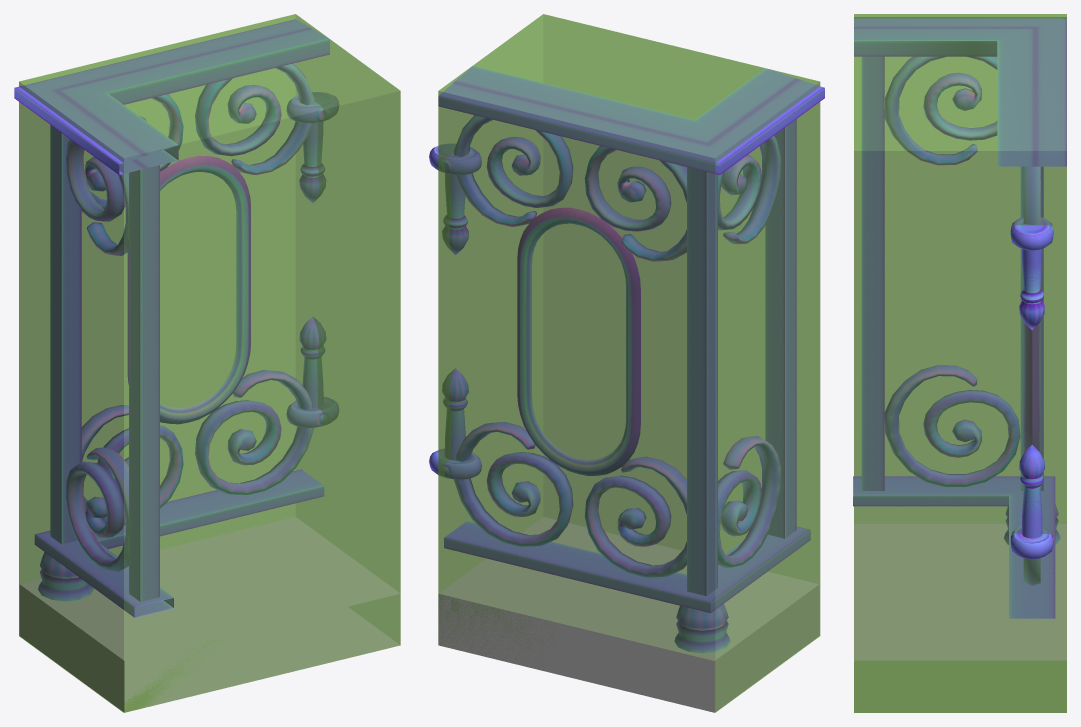
The model's file is F_md_Balcony_S_end_04_m.fbx.
3 renders of one model, left to right at view 1: azimuth 30°, elevation 25°; view 2: azimuth 150°, elevation 25°; view 3: azimuth 270°, elevation 25°, orthographic.
Parts seen in each view (by area): view 1: F_md_Balcony_S_end_04_m_col_01, F_md_Balcony_S_end_04_m_LOD0; view 2: F_md_Balcony_S_end_04_m_col_01, F_md_Balcony_S_end_04_m_LOD0; view 3: F_md_Balcony_S_end_04_m_col_01, F_md_Balcony_S_end_04_m_LOD0.
Part boxes in pixels (x1=…): F_md_Balcony_S_end_04_m_col_01: x1=19, y1=14, x2=400, y2=712; F_md_Balcony_S_end_04_m_LOD0: x1=14, y1=19, x2=400, y2=712; F_md_Balcony_S_end_04_m_col_01: x1=438, y1=14, x2=820, y2=712; F_md_Balcony_S_end_04_m_LOD0: x1=429, y1=66, x2=824, y2=712; F_md_Balcony_S_end_04_m_col_01: x1=854, y1=14, x2=1066, y2=712; F_md_Balcony_S_end_04_m_LOD0: x1=853, y1=17, x2=1066, y2=712.
Size of what is drawn, in the model's own units: 61.79 by 107 by 36.95.
